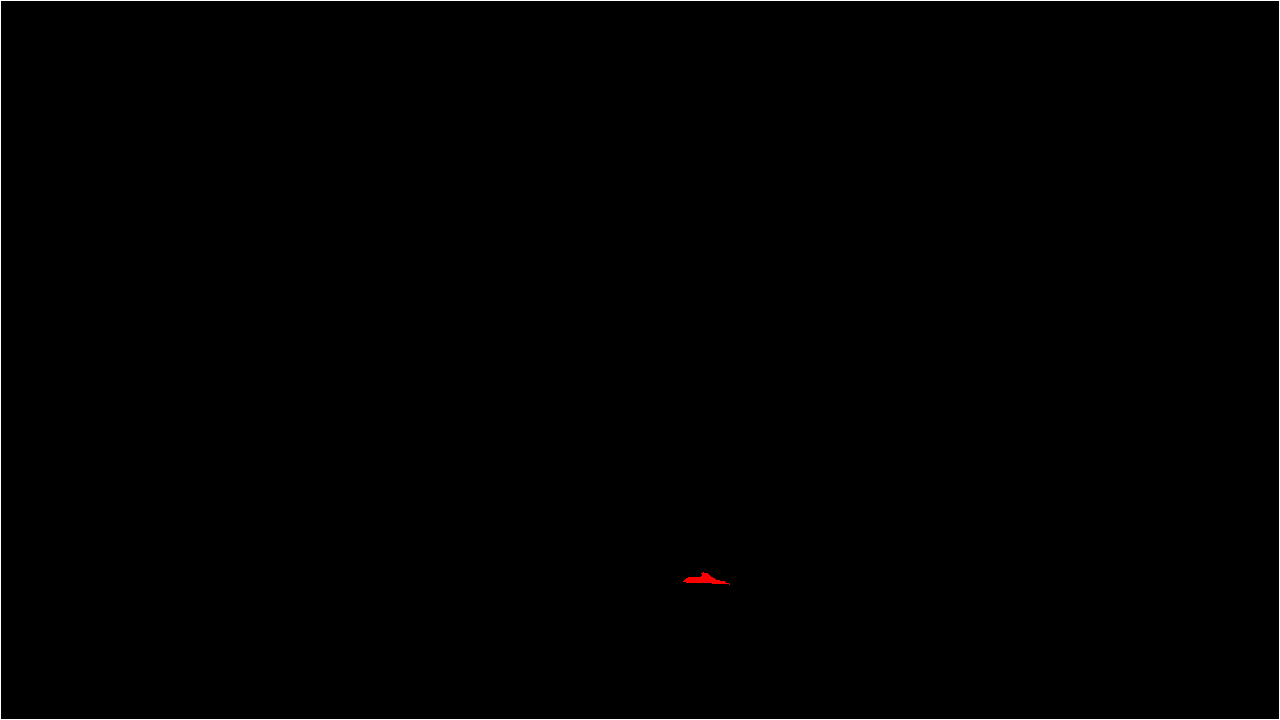drone: (664, 554, 748, 605)
